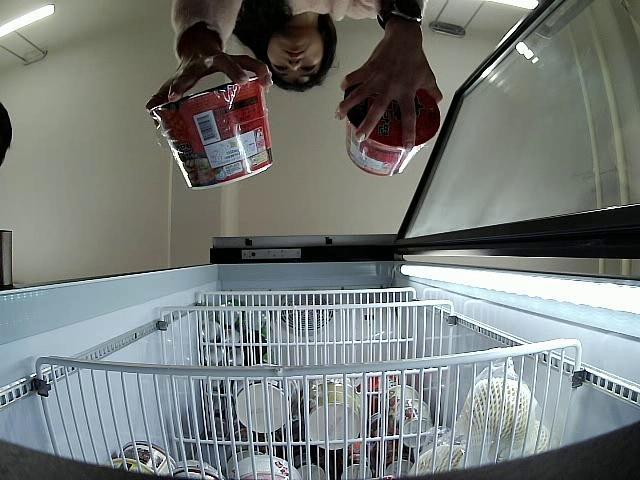01_ShinRamen_L: (150, 78, 273, 190), (346, 88, 440, 178)
